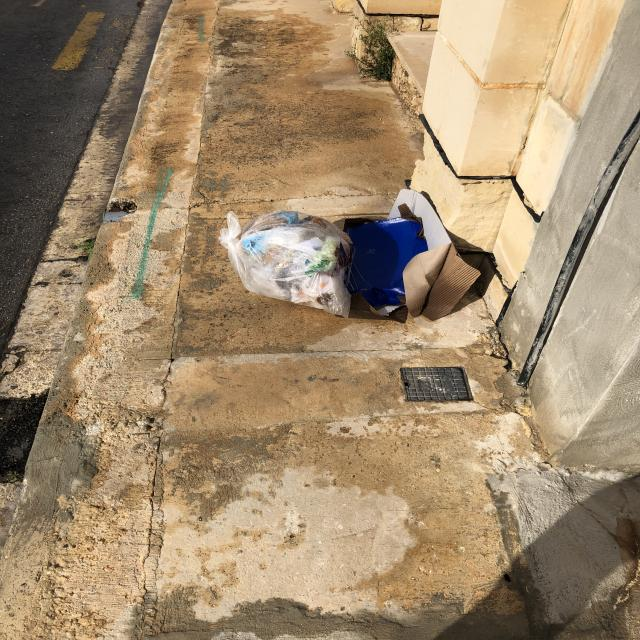Other: (387, 188, 482, 325), (341, 217, 431, 325)
Recycled Waste -Grey or Green Bag-: (218, 211, 353, 324)
